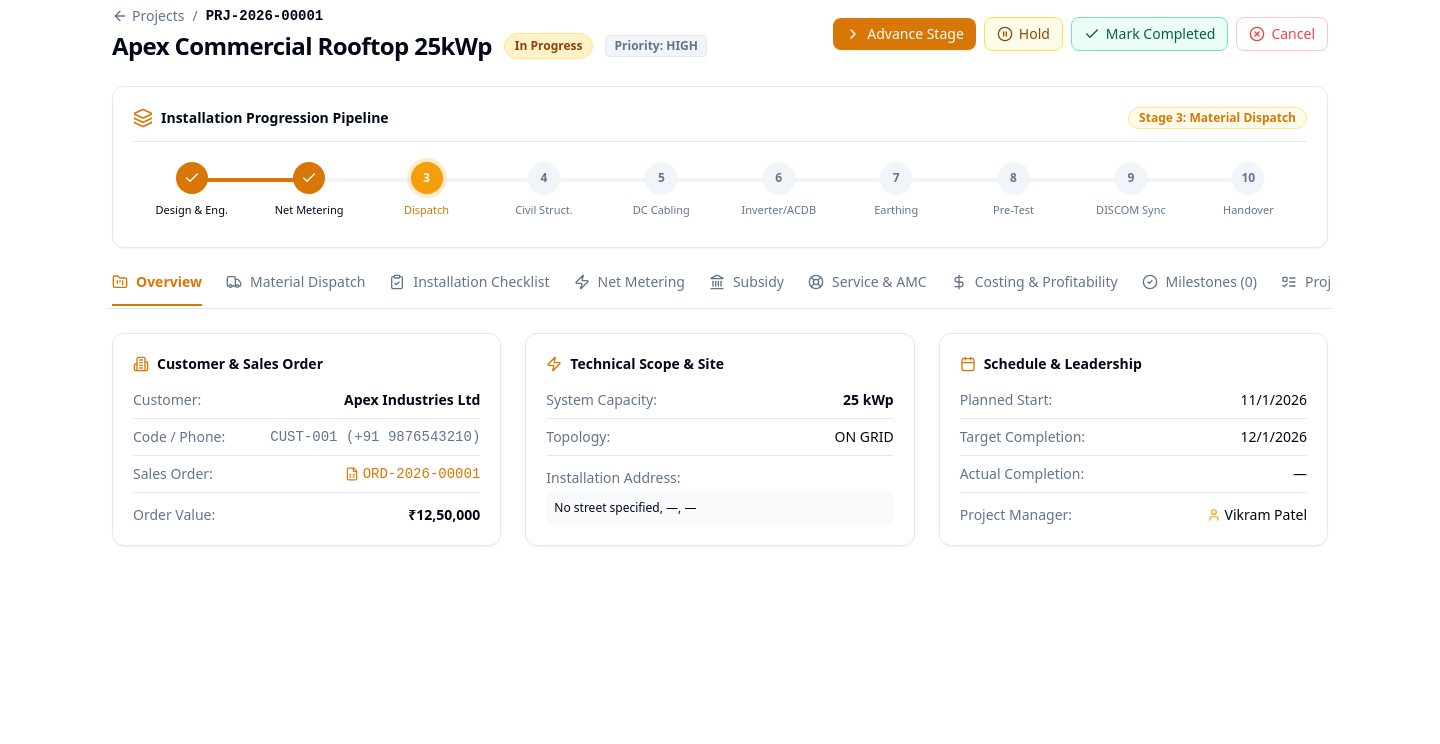
Test: Phase 6B Frontend: Material Dispatch & Installation Checklist › renders 5-category installation checklist with status badges and commissioning blocker warning
Expected: the text "PRJ-2026-00001" is shown, [206,6,323,26]
Click on Installation Checklist tab
Step 1. Click the button "Installation Checklist" → click(469, 288), box [389,272,550,306]
(page scrolled)
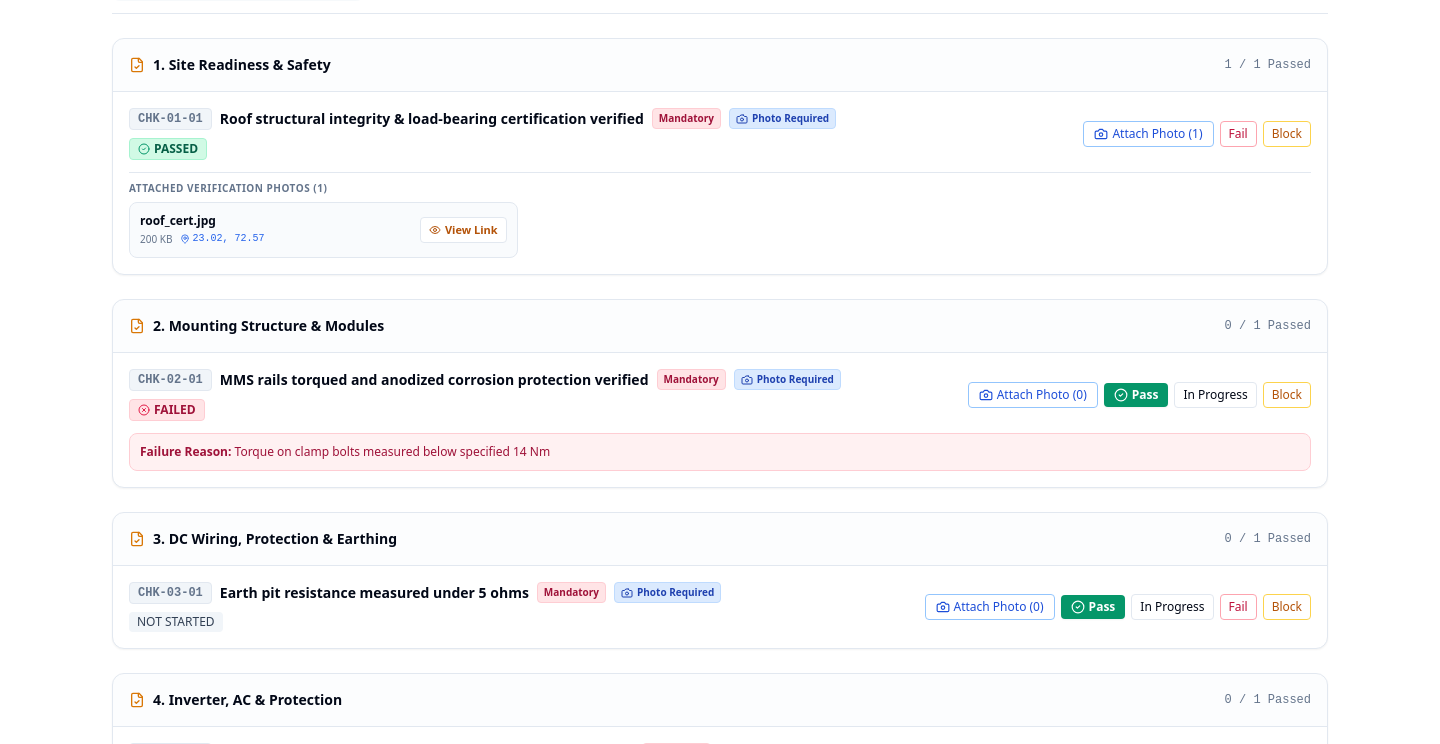
Now the text "CHK-01-01" is shown, box [129,108,212,130]
Now the text "PASSED" is shown, box [129,138,207,160]
Now the text "roof_cert.jpg" is shown, box [140,212,216,228]
